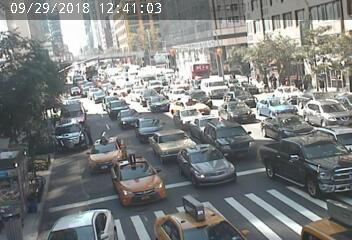car: (262, 138, 346, 187), (115, 160, 159, 200), (203, 122, 253, 156), (180, 148, 226, 182), (269, 117, 307, 140), (307, 100, 342, 124), (88, 139, 119, 166), (154, 134, 197, 152), (59, 103, 90, 127), (173, 95, 212, 114), (221, 98, 253, 120), (262, 99, 297, 117), (57, 127, 86, 146), (173, 110, 201, 126), (139, 121, 166, 137), (150, 98, 171, 115), (116, 110, 141, 124), (202, 80, 225, 95), (106, 102, 131, 115), (136, 71, 155, 83), (147, 81, 165, 92), (91, 92, 105, 101), (69, 88, 80, 95)
